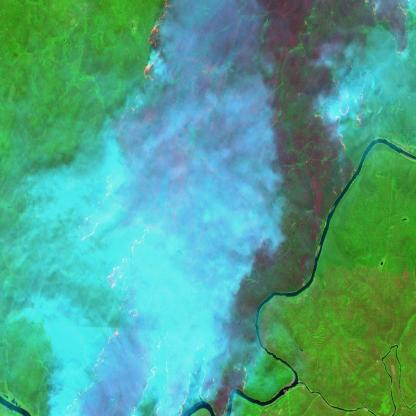fire: (62, 0, 257, 416)
